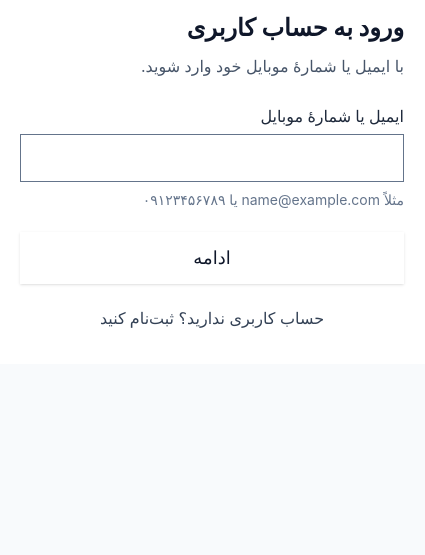
Scenario: LoginFlow › keeps what was typed when going back and forth between the steps
In the field labelled "ایمیل یا شمارهٔ موبایل": point(212, 158) [21,135,403,181], type "sara.ahmadi@example.com"
Click the button "ادامه": point(212, 258) [20,232,404,284]
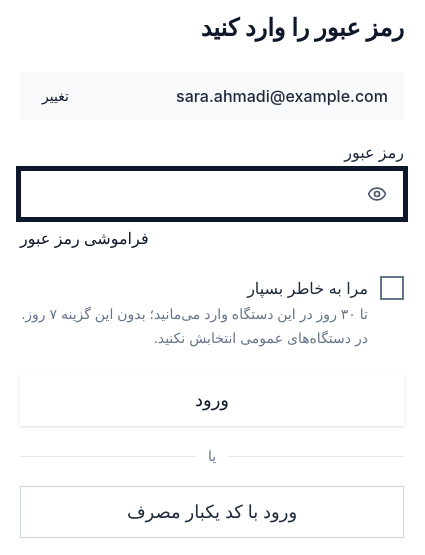
In the password field labelled "رمز عبور": point(188, 194) [21,171,355,217], type "Firefly@1234"
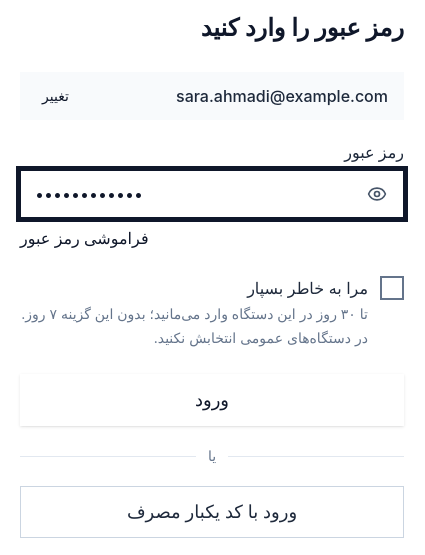
Click the button "تغییر": point(55, 96) [28,76,83,116]
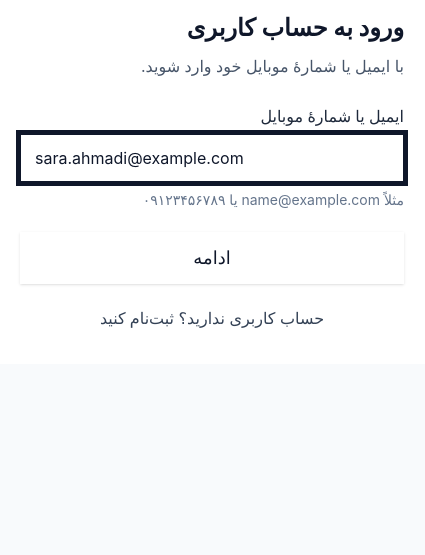
Now the field labelled "ایمیل یا شمارهٔ موبایل" holds "sara.ahmadi@example.com", box [21,135,403,181]
Click the button "ادامه": point(212, 258) [20,232,404,284]
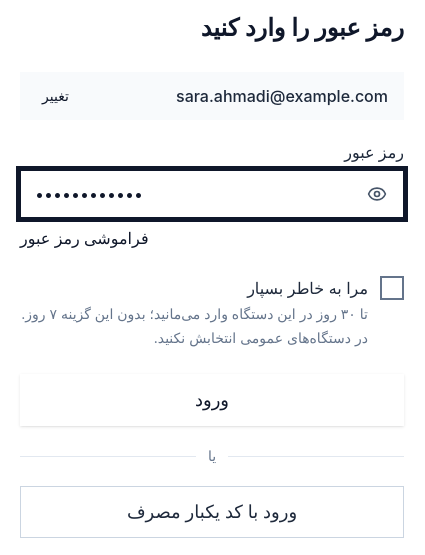
Now the password field labelled "رمز عبور" holds "Firefly@1234", box [21,171,355,217]
Click the button "ورود با کد یکبار مصرف": point(212, 512) [20,486,404,538]
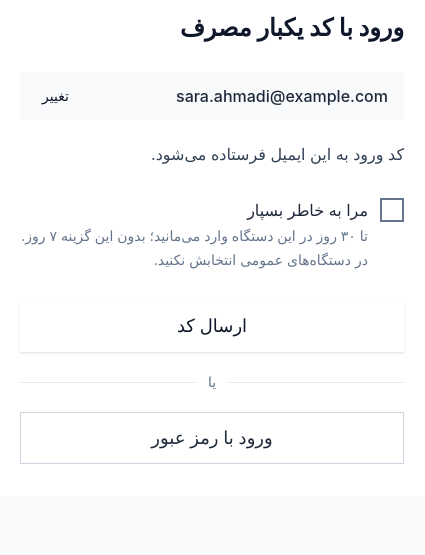
Click the button "ورود با رمز عبور": point(212, 438) [20,412,404,464]
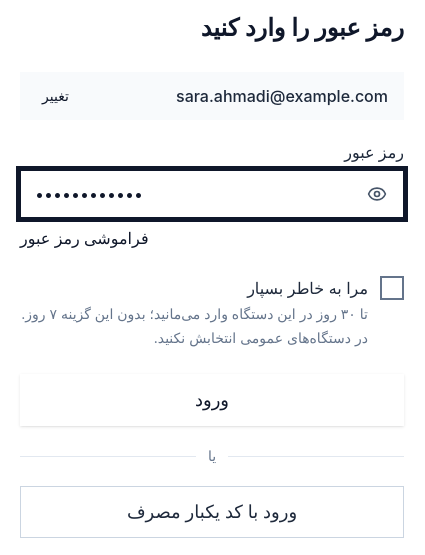
Now the password field labelled "رمز عبور" holds "Firefly@1234", box [21,171,355,217]
